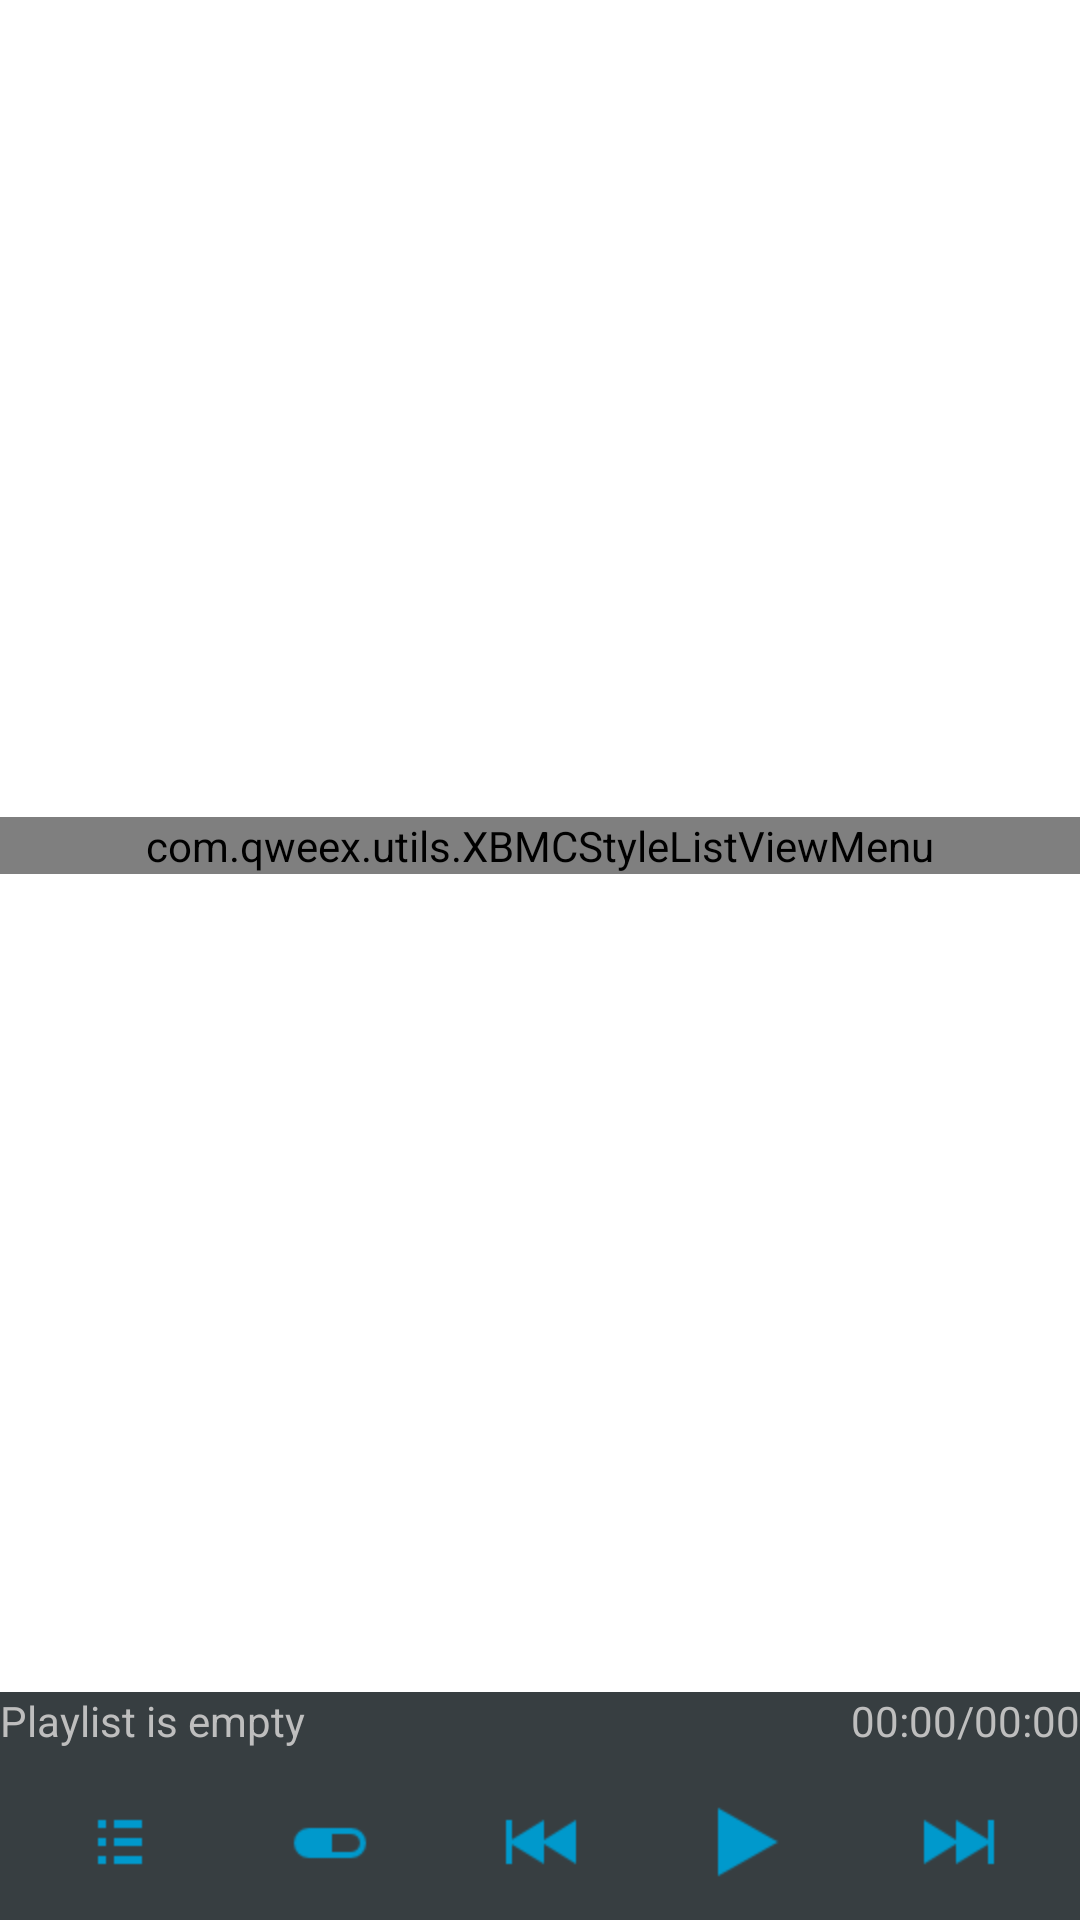

Where icons sit on this 1080px x 1920px app screen, as (x1, y1, x2, y2):
pill: (293, 1827, 367, 1859)
playback next: (923, 1819, 995, 1865)
playback play: (717, 1808, 778, 1876)
playback prev: (505, 1819, 577, 1865)
